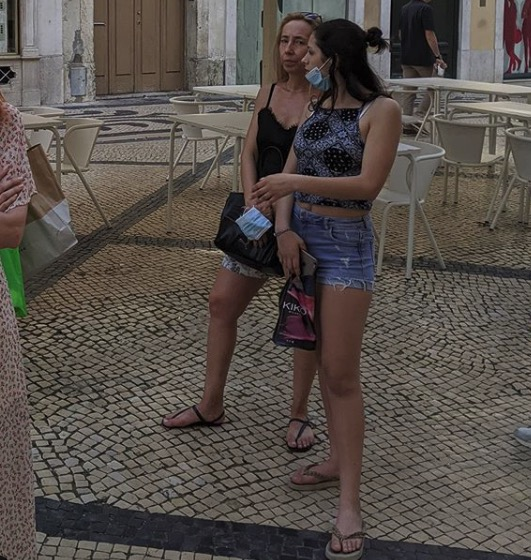mask_weared_incorrect: (304, 43, 326, 87)
without_mask: (272, 30, 306, 70)
